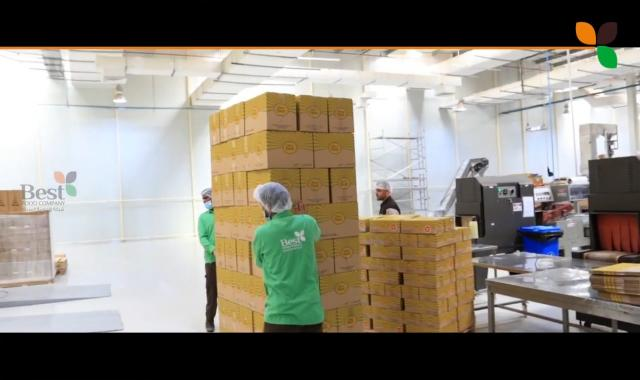hairnet: (256, 180, 293, 215), (373, 180, 391, 194), (200, 186, 214, 198)
